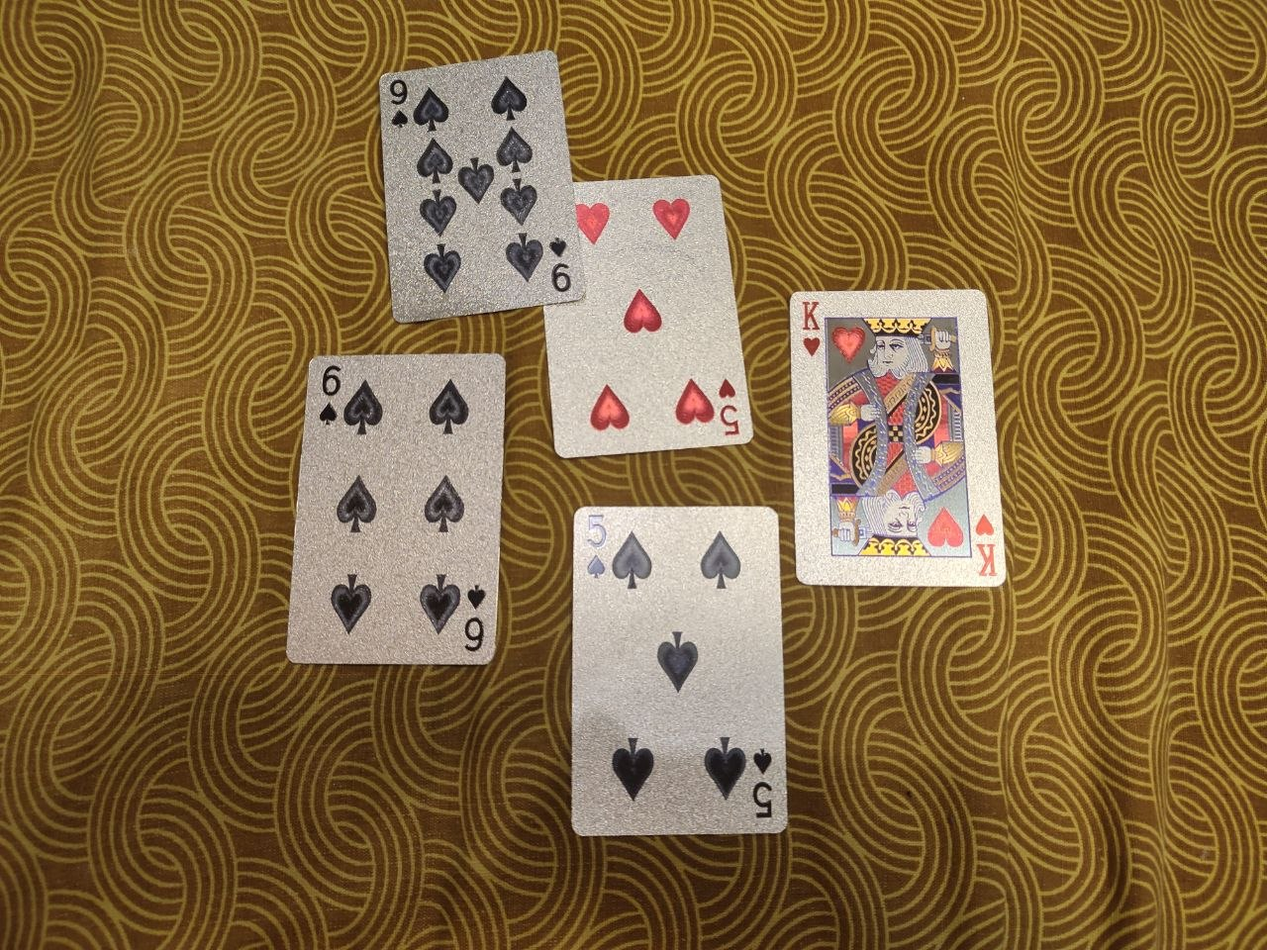5H: (540, 175, 758, 460)
5S: (571, 504, 790, 838)
6S: (283, 348, 507, 671)
9S: (378, 46, 588, 323)
KH: (789, 287, 1007, 590)
